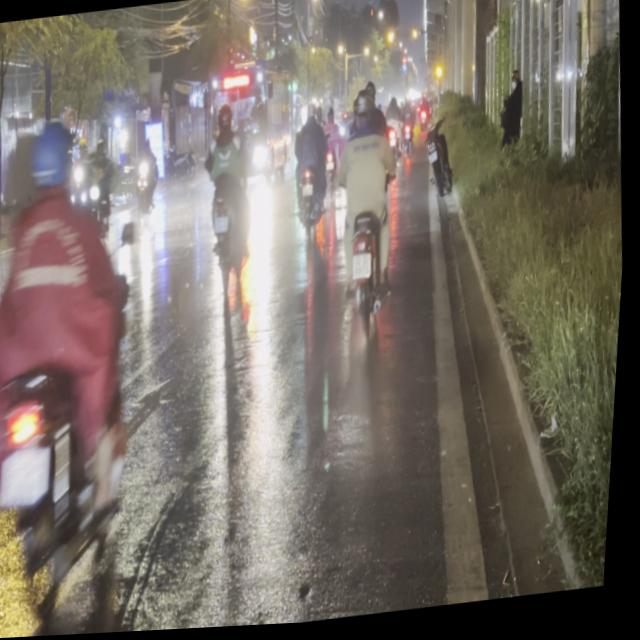helmet: (23, 115, 80, 205), (348, 88, 379, 136)
licenseplate: (0, 98, 172, 640), (322, 85, 414, 346)
nohelmet: (1, 444, 58, 505), (352, 256, 375, 282)
